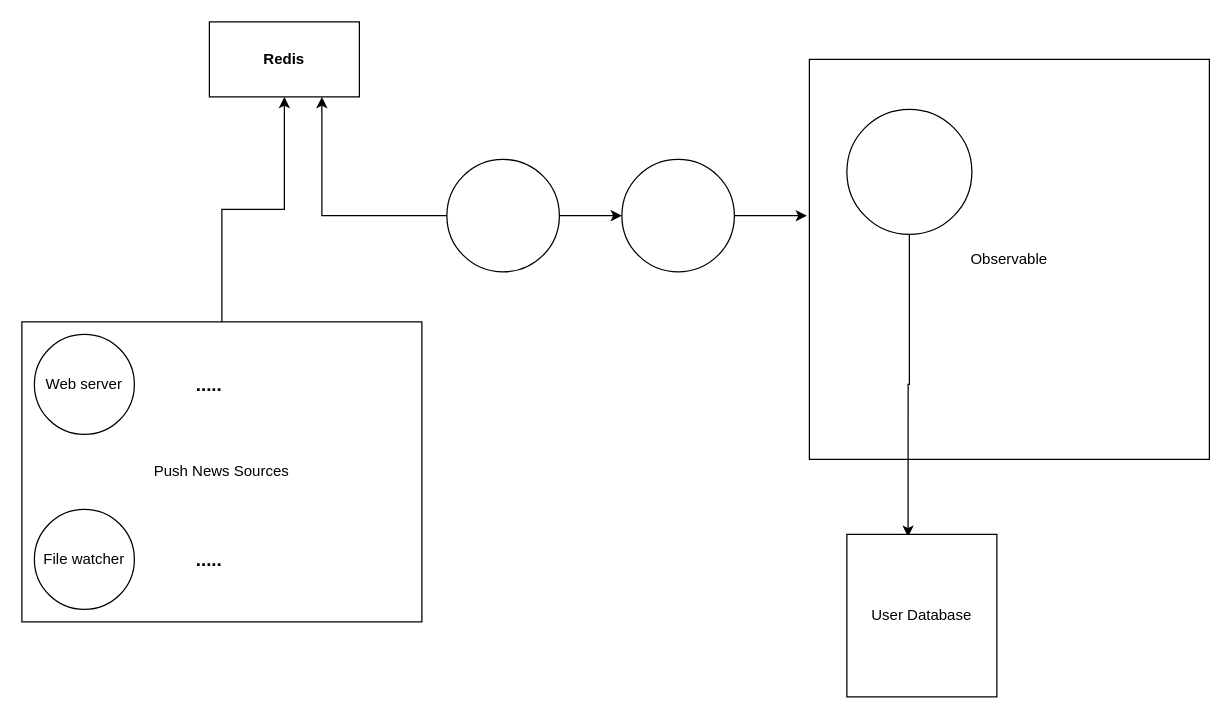
This 1231x719 diagram has some shape labels left out. The shapes that lost their labels are listed below. From the top down, each one's centre as x and y in pixels, then its label:
At point 909,171: "NewsLetterEmail".
At point 502,215: "redisSubject".
At point 677,215: "Operator News From topic".
